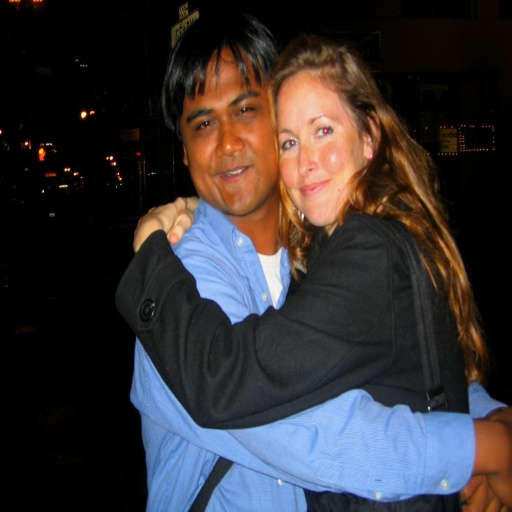hand: (457, 471, 508, 511), (489, 419, 511, 505), (166, 204, 195, 243)
